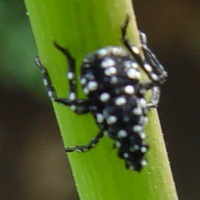insect: (35, 15, 166, 171)
